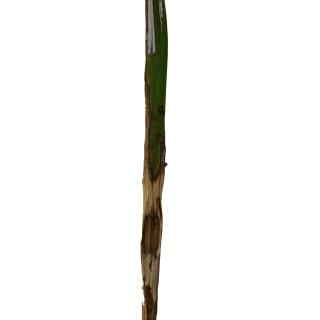Hawar-Daun: (141, 141, 163, 320), (143, 0, 160, 57)
